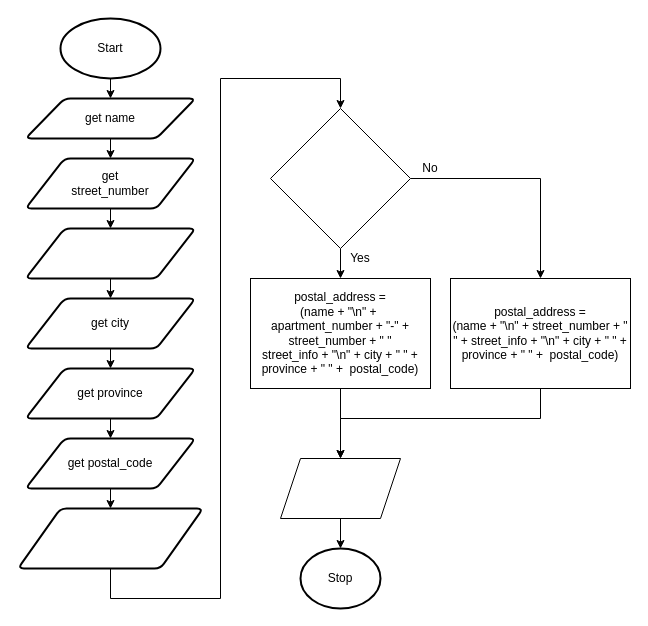
This 648x626 diagram has some shape labels left out. Each missing label, with the centre of its shape:
"get apartment_number = None" belongs at (x=110, y=538).
"get street_name_type" belongs at (x=110, y=253).
"if apartment_number is not None" belongs at (x=340, y=178).
"return postal_address" belongs at (x=340, y=488).
